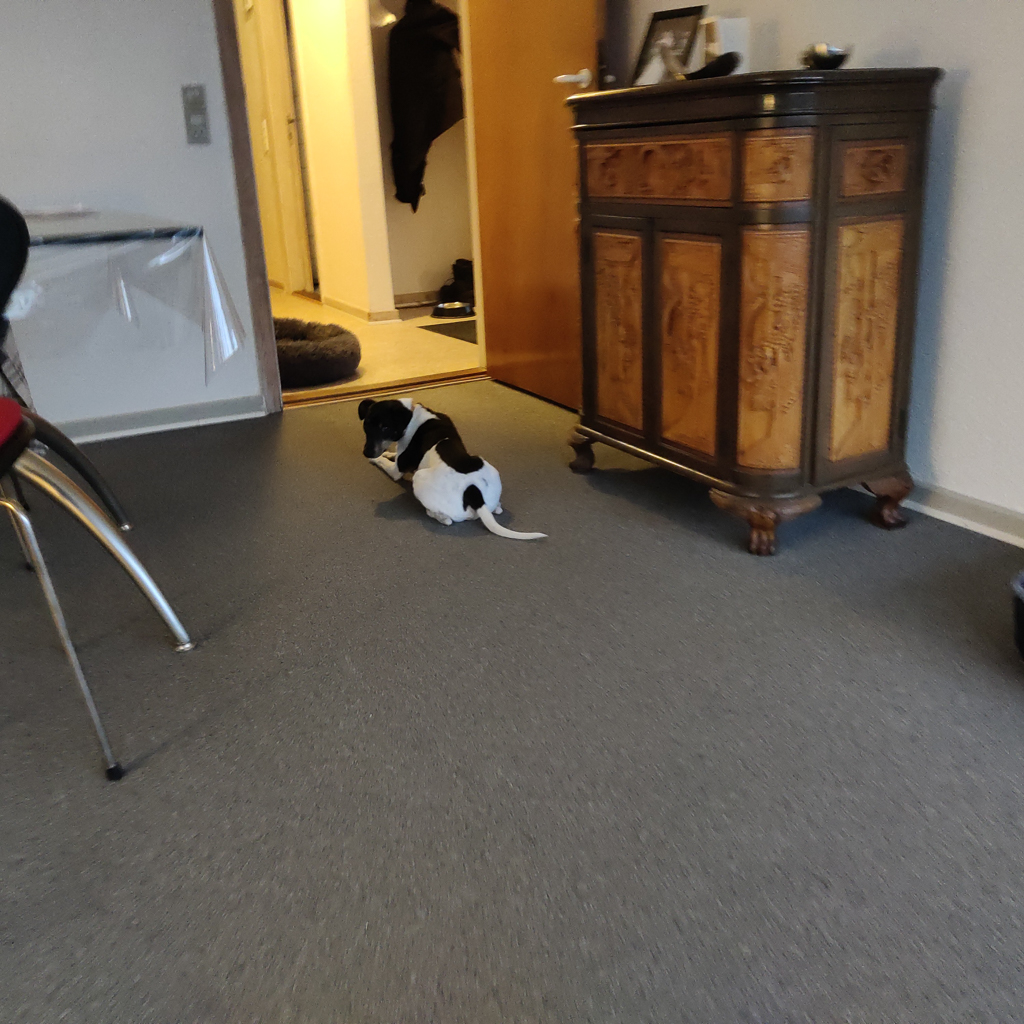Dog: (339, 395, 560, 550)
